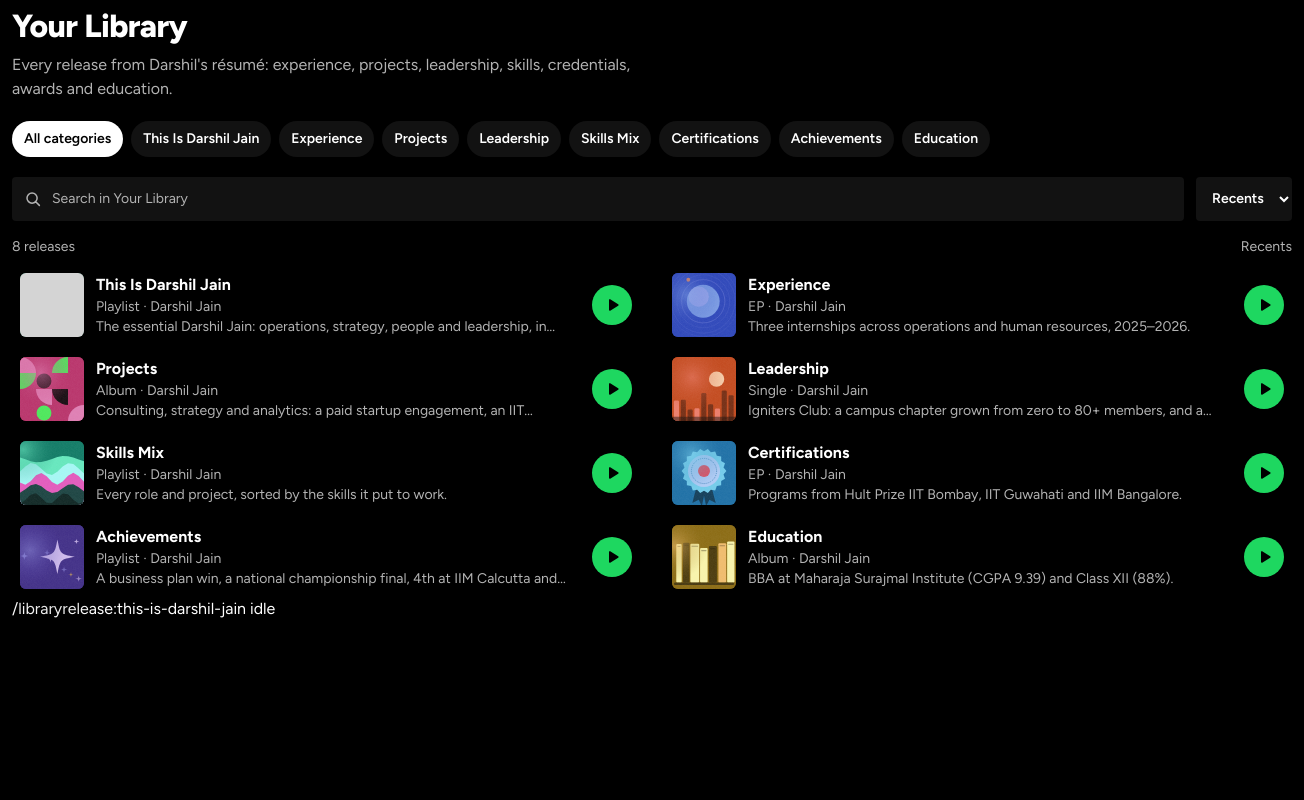
Scenario: routed portfolio pages without the legacy player runtime › renders Library with professional collection categories and truthful navigation
Expected: the heading "Your Library" is shown, [12,7,187,45]
Expected: the text "Three internships across operations and human resources, 2025–2026." is shown, [748,317,1232,337]
Click the button "Achievements". click: x=836, y=139
box: [779,121,894,157]
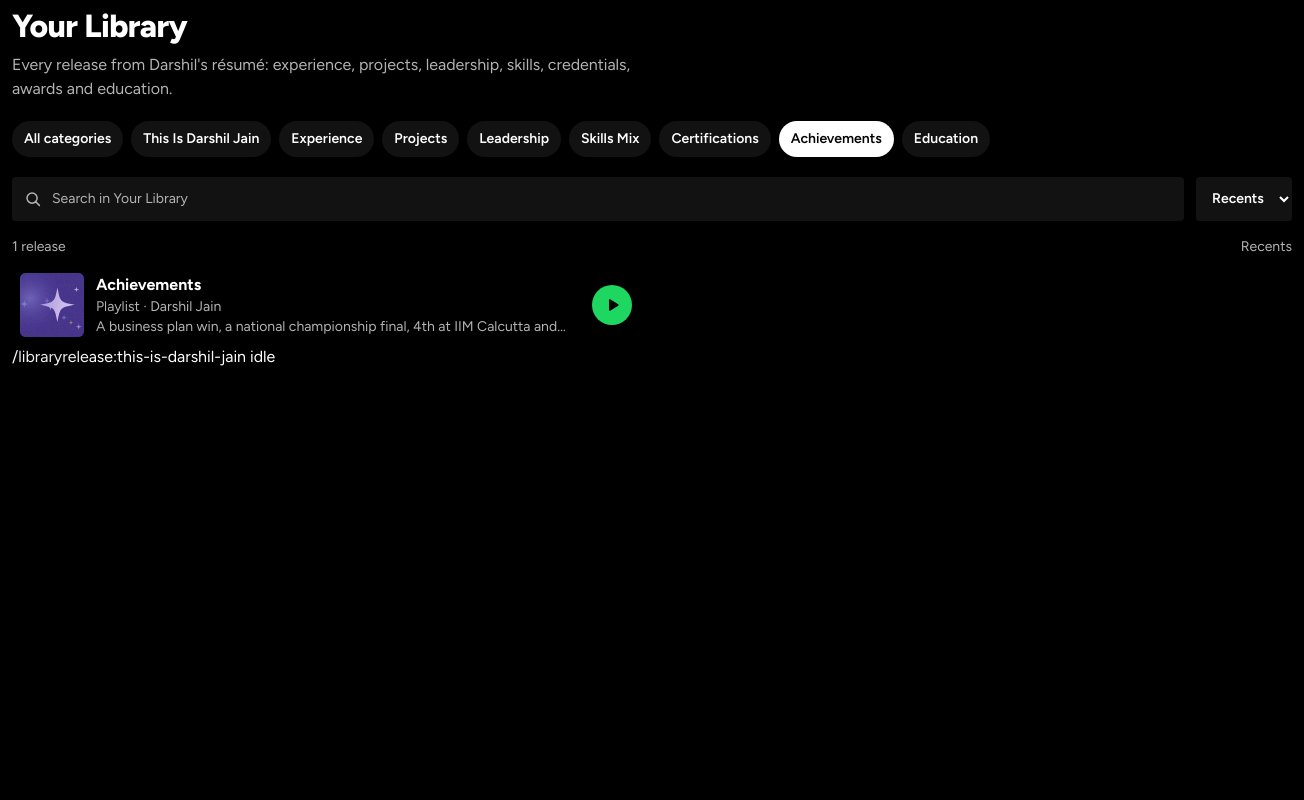
Click the button "All categories". click: x=68, y=139
box: [12,121,123,157]
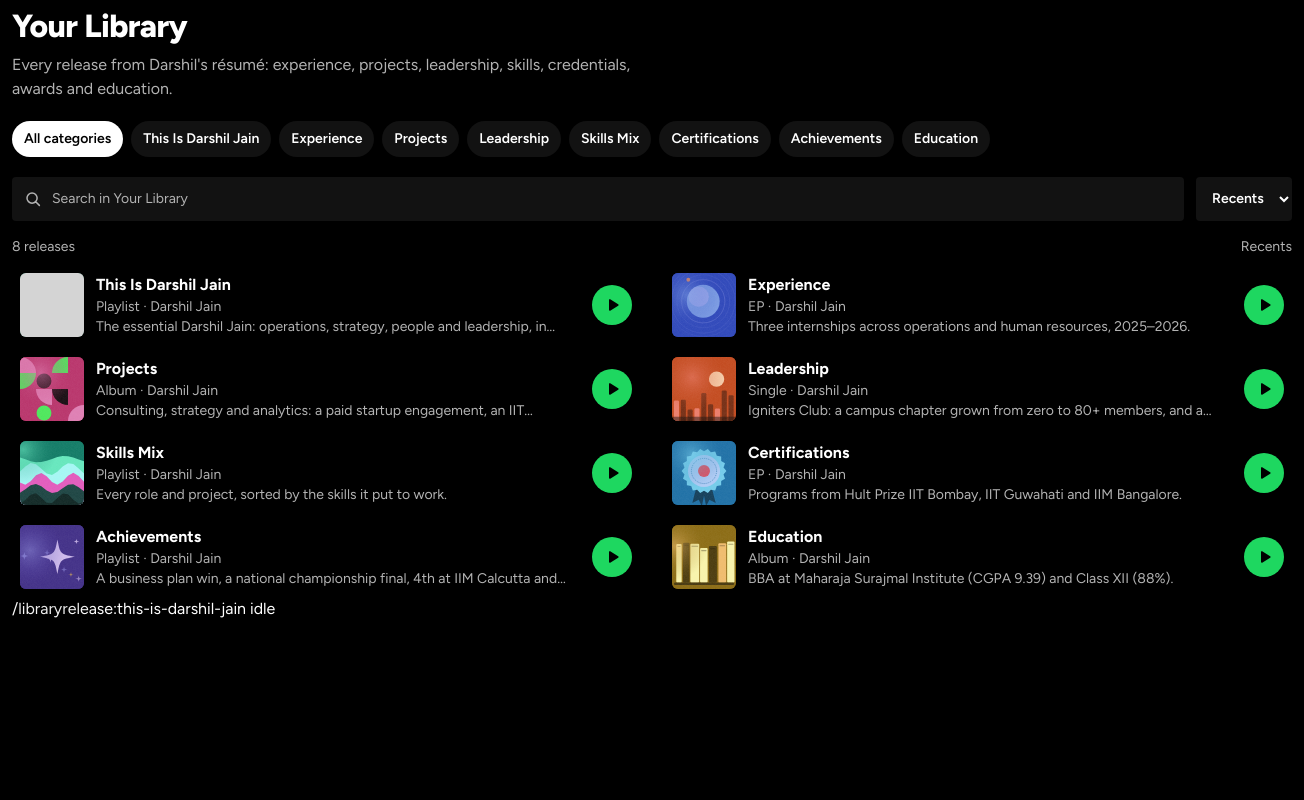
Type "Projects" into the search field named "Search Your Library". click: x=598, y=199
box: [12,177,1184,221]
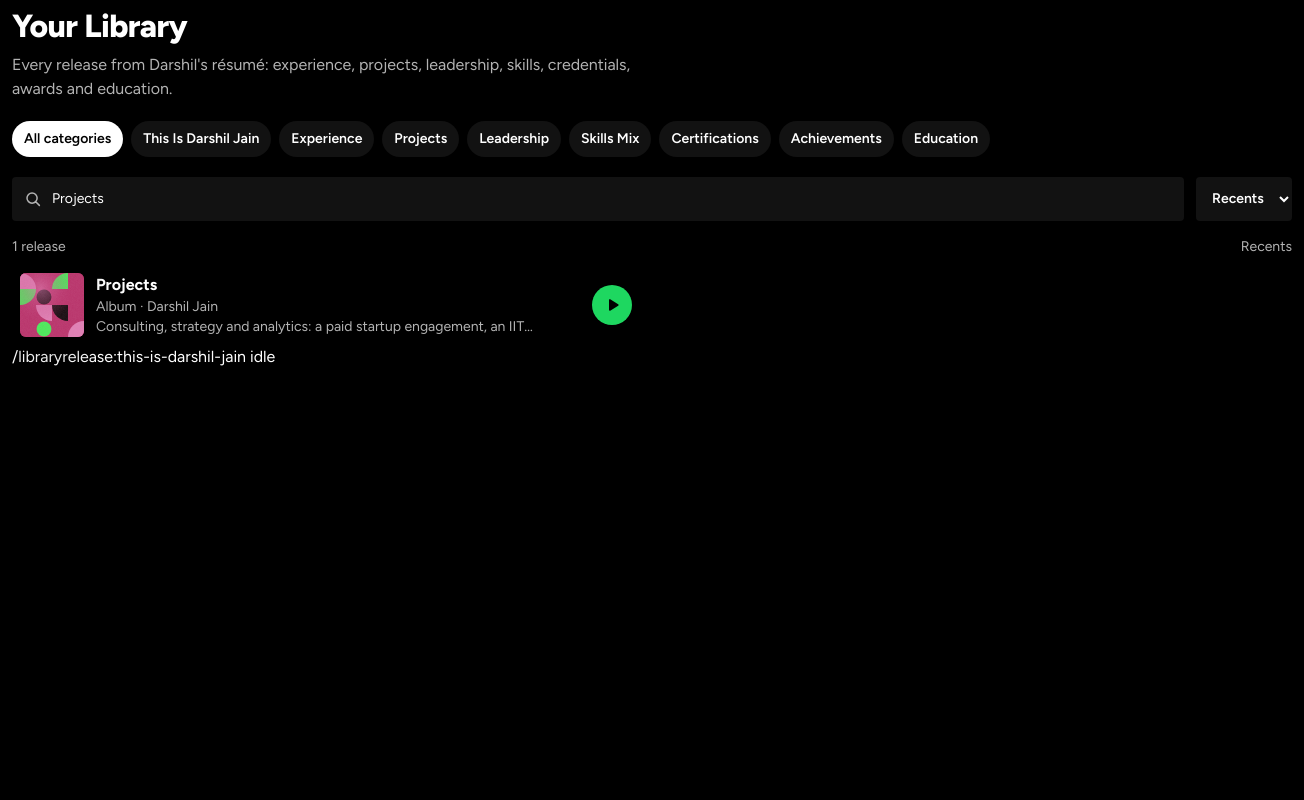
Expected: the link named "Explore Projects" is shown, [12,265,640,345]
Clear the search field named "Search Your Library". click: x=598, y=199
box: [12,177,1184,221]
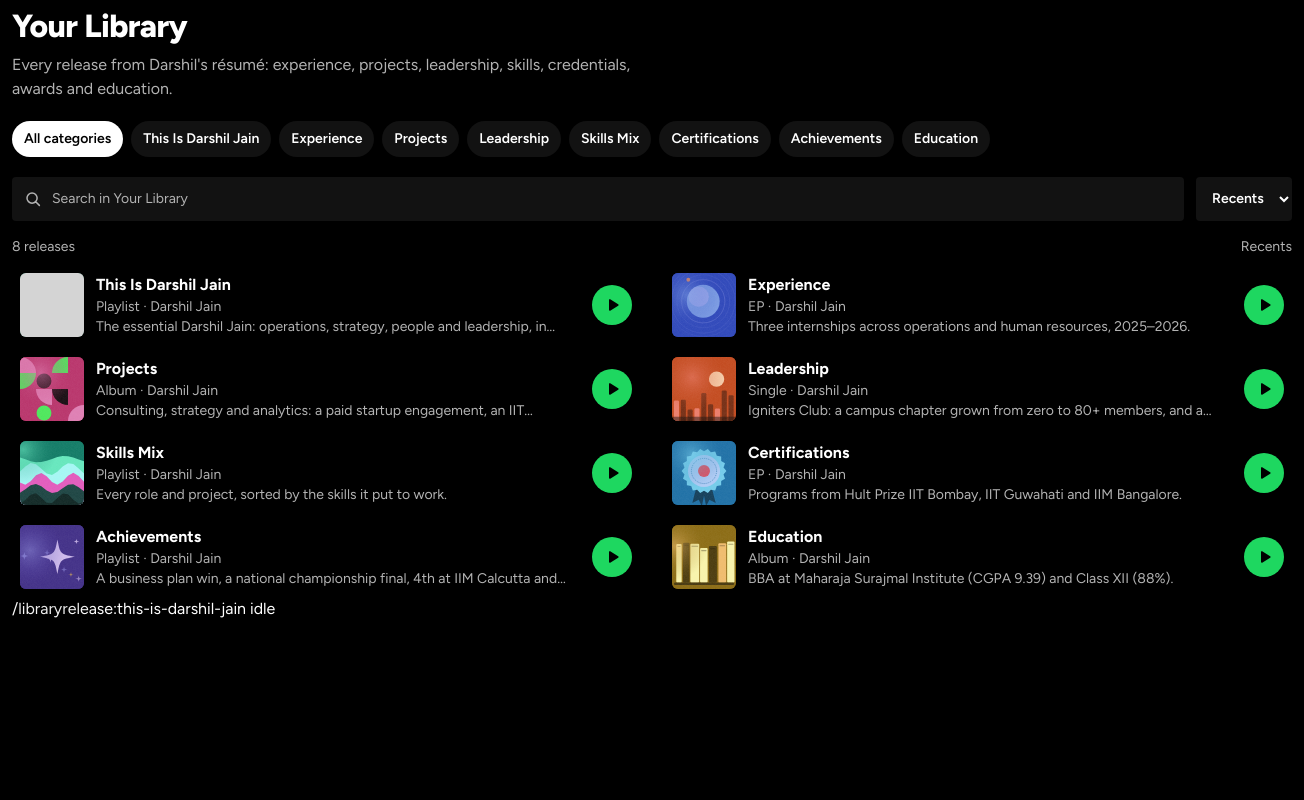
Select "A–Z" in the dropdown named "Sort releases". click: x=1244, y=199
box: [1196,177,1292,221]
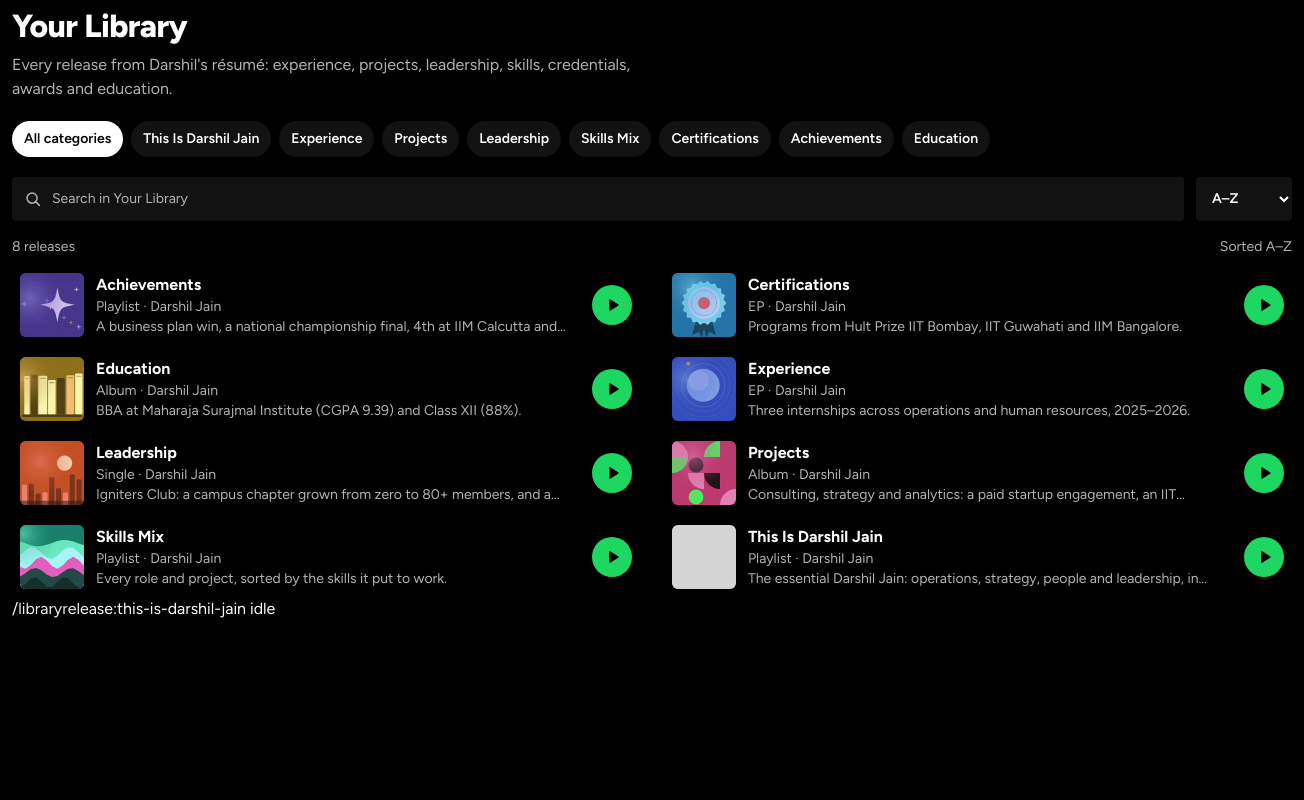
Expected: the text "Sorted A–Z" is shown, [1220,237,1292,257]
